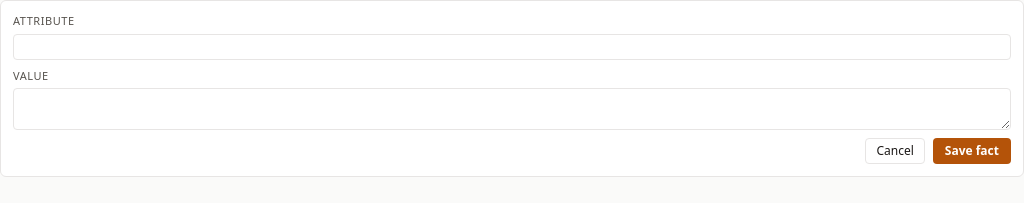
Test: FactForm ages › refuses a year next to a non-numeric age
Type "Age" into the field labelled "Attribute" at {"x": 512, "y": 46}, box x1=13 y1=34 x2=1011 y2=60
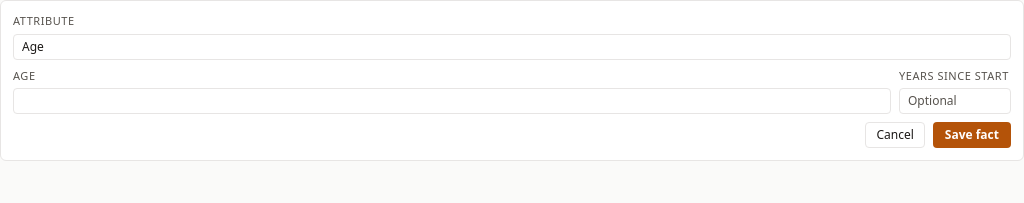
Type "about 40" into the field labelled "Age" at {"x": 452, "y": 101}, box x1=13 y1=88 x2=891 y2=114
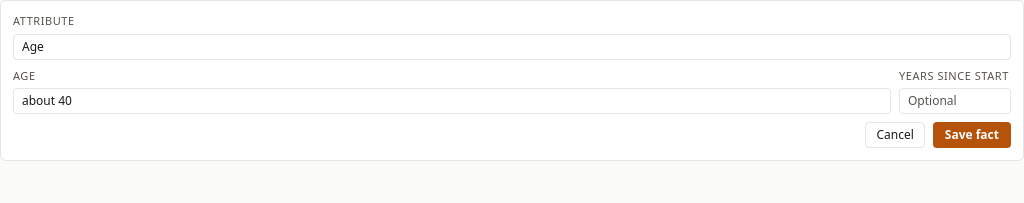
Type "3" into the field labelled "Years since start" at {"x": 955, "y": 101}, box x1=899 y1=88 x2=1011 y2=114
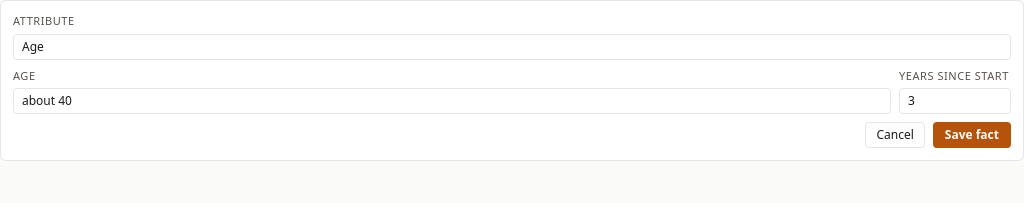
Click the button "Save fact" at {"x": 972, "y": 135}, box x1=933 y1=122 x2=1011 y2=148
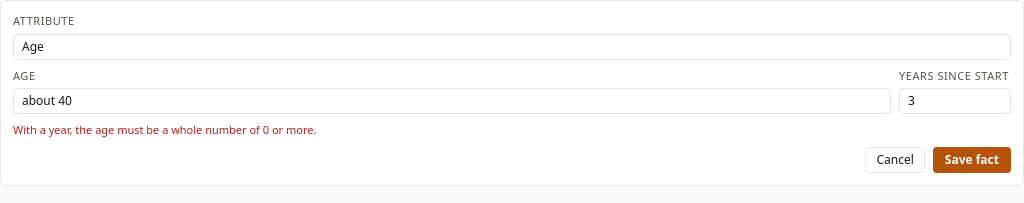
Now the message reads "With a year, the age must be a whole number of 0 or more.", box x1=13 y1=122 x2=316 y2=137
